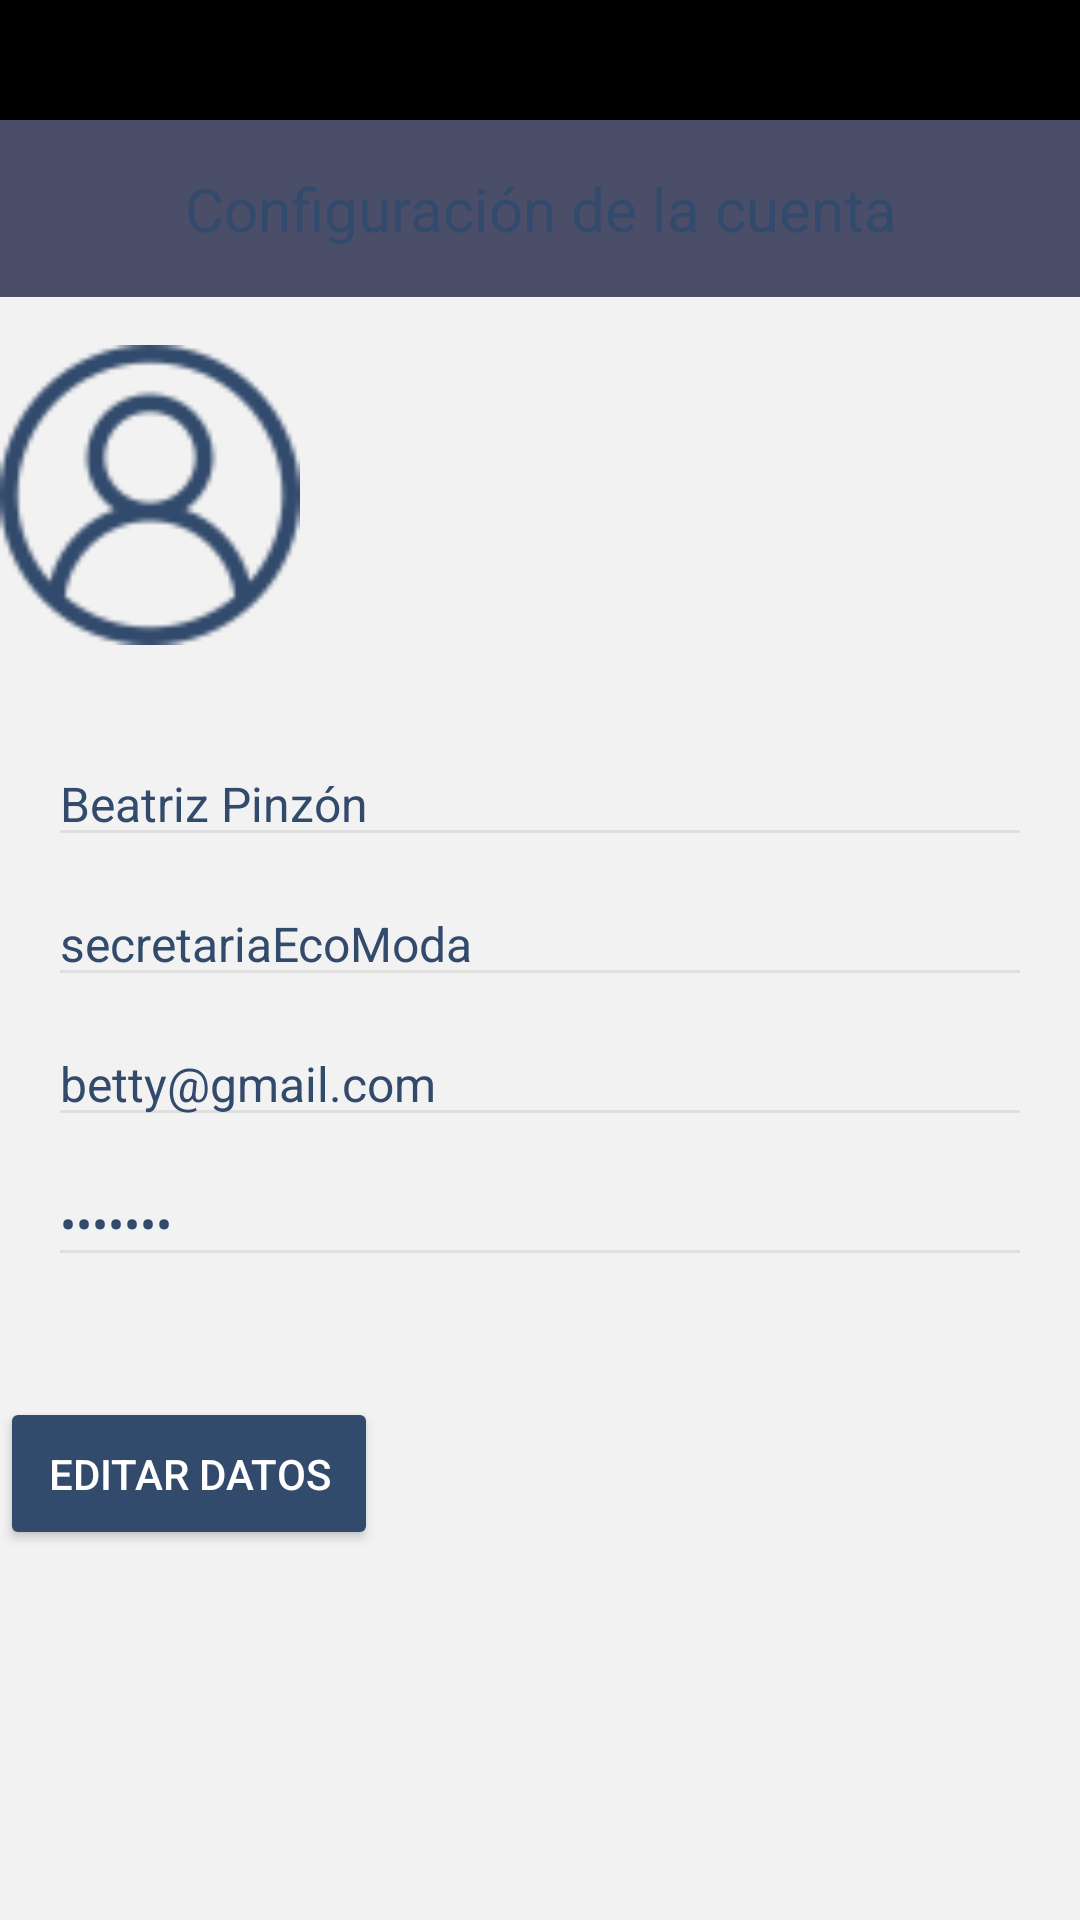

Where icons sit on this 1080px x 1920px app screen, as bbox(x1, y1, x2, y2):
user: bbox(0, 345, 300, 645)
